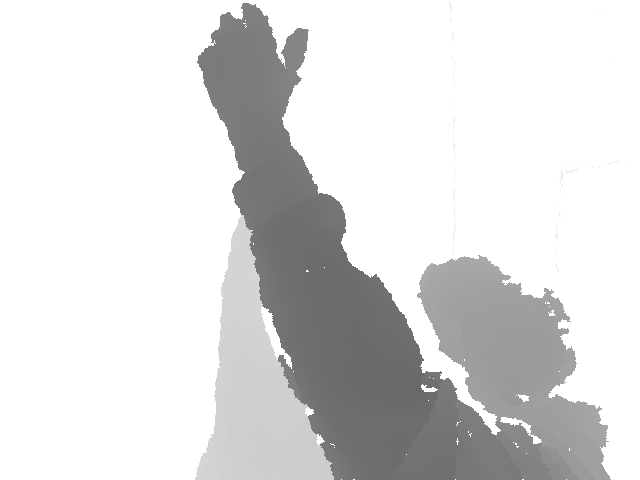hand: (198, 2, 309, 127)
head: (416, 250, 579, 411)
person: (198, 3, 612, 480)
